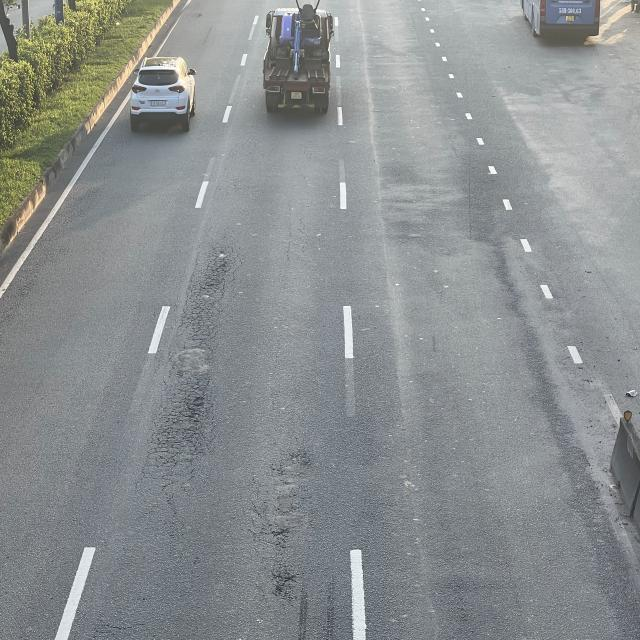car: (130, 56, 198, 130)
truck: (261, 8, 334, 116)
